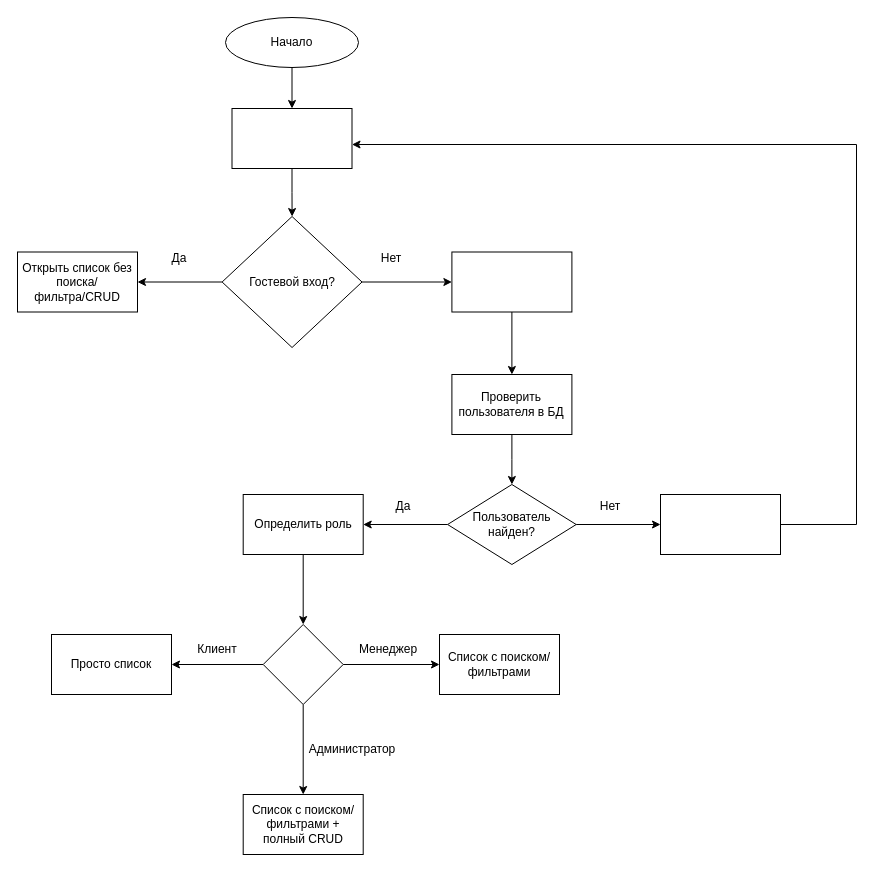
Some shapes in this 882 by 872 pixel diagram are drawn without their labels. Each missing label, with the centre of its shape:
Ввести логин и пароль: the point at 511,281
Открыть окно входа: the point at 291,138
Показать ошибку: the point at 720,524
Роль?: the point at 302,664
